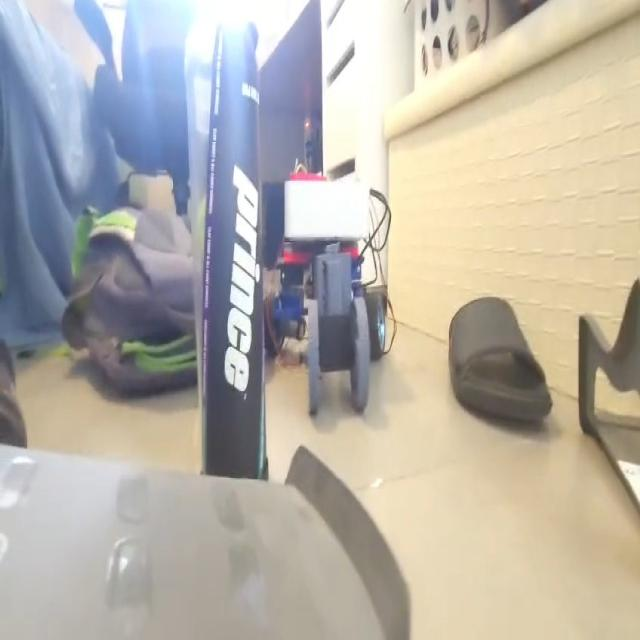Robot: (264, 170, 386, 416)
